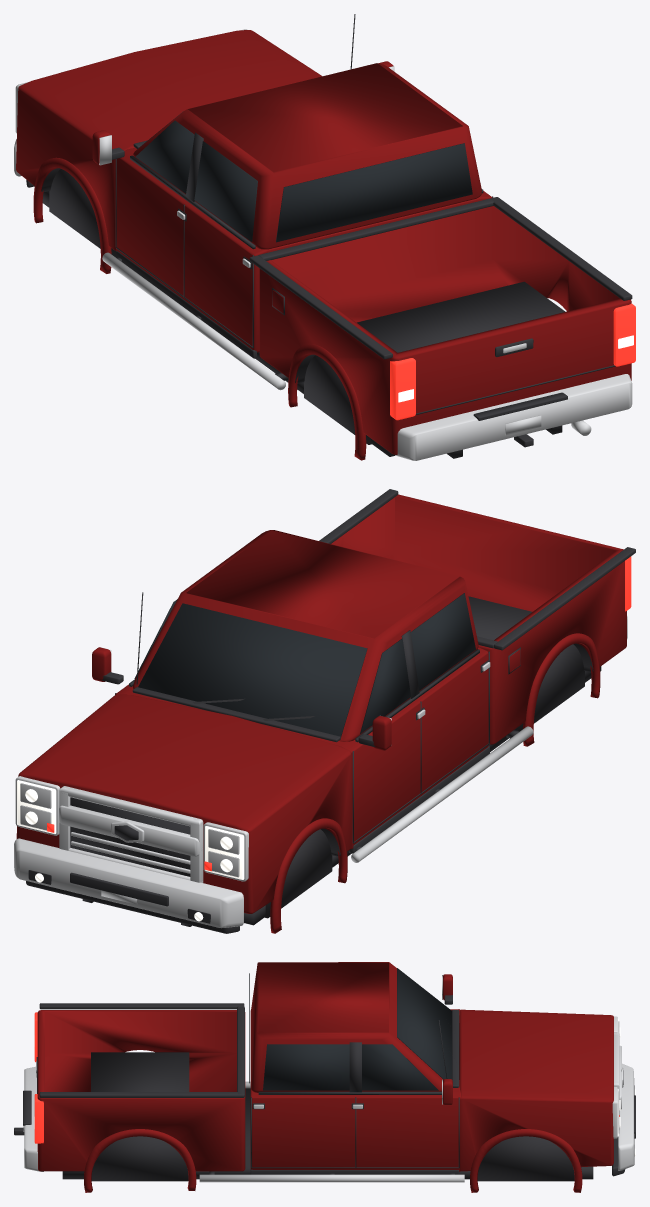
The model's file is car_corvane_stockman.glb.
3 views of the same model, one above another, from view 1: azimuth 30°, elevation 25°; view 2: azimuth 150°, elevation 25°; view 3: azimuth 270°, elevation 25° (orthographic). The views are drawn at different scales.
Parts seen in each view (by area): view 1: car_corvane_stockman; view 2: car_corvane_stockman; view 3: car_corvane_stockman.
Part boxes in pixels (<box>): car_corvane_stockman: <box>14,14,635,460</box>; car_corvane_stockman: <box>14,489,635,933</box>; car_corvane_stockman: <box>14,962,635,1192</box>.
Bounding box in the file's own units: 2.52 × 1.78 × 6.02.
